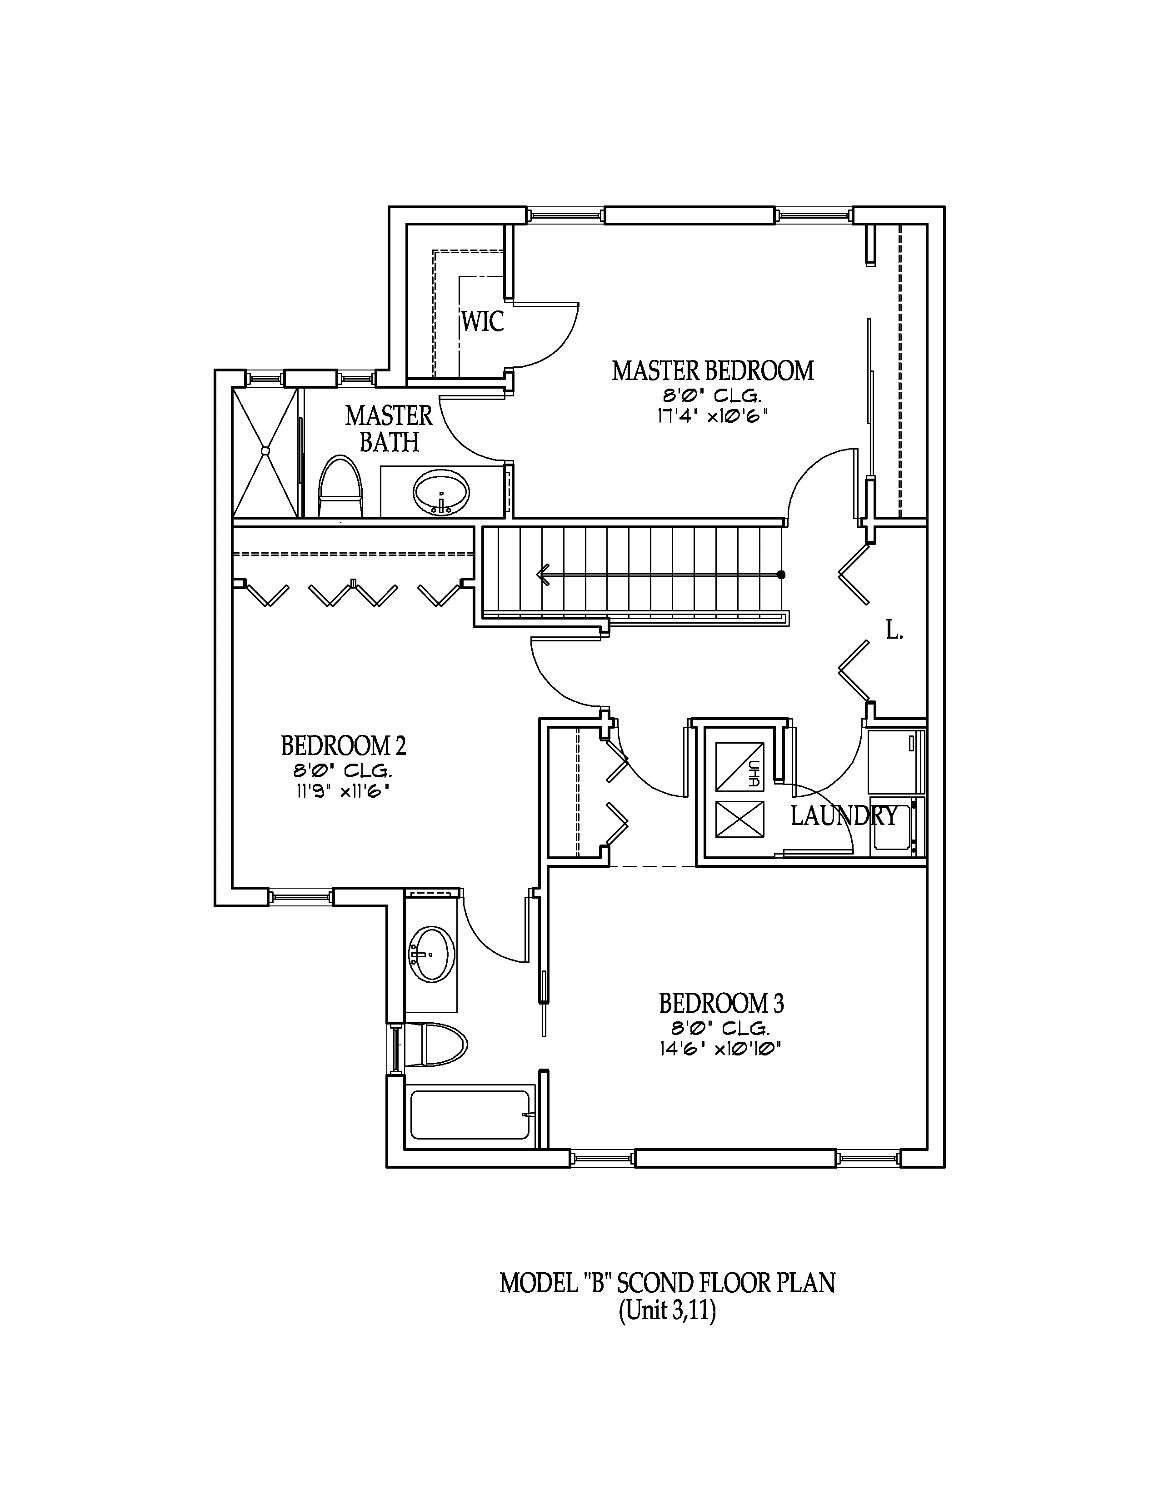ceramic sink: (411, 468, 471, 517), (408, 925, 457, 985)
door: (530, 628, 611, 716), (782, 447, 862, 528), (786, 717, 867, 797), (773, 780, 853, 860), (614, 717, 692, 797), (437, 388, 516, 466), (502, 297, 579, 373), (459, 888, 533, 964)
toilet: (317, 454, 364, 519), (405, 1022, 467, 1067)
window: (523, 205, 608, 226), (772, 205, 855, 226), (569, 1147, 637, 1170), (265, 886, 335, 908), (833, 1148, 902, 1169), (383, 1022, 405, 1078), (335, 366, 377, 390), (243, 366, 286, 388)
